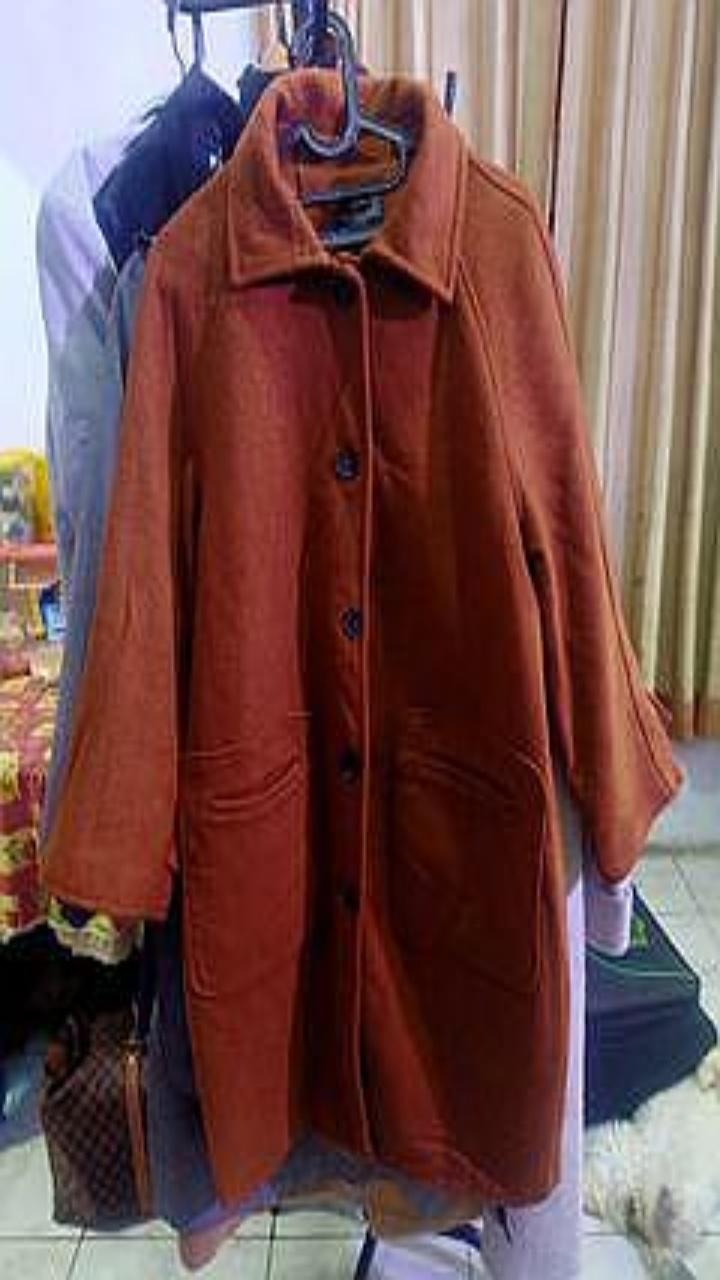Coat: (45, 71, 679, 1203)
